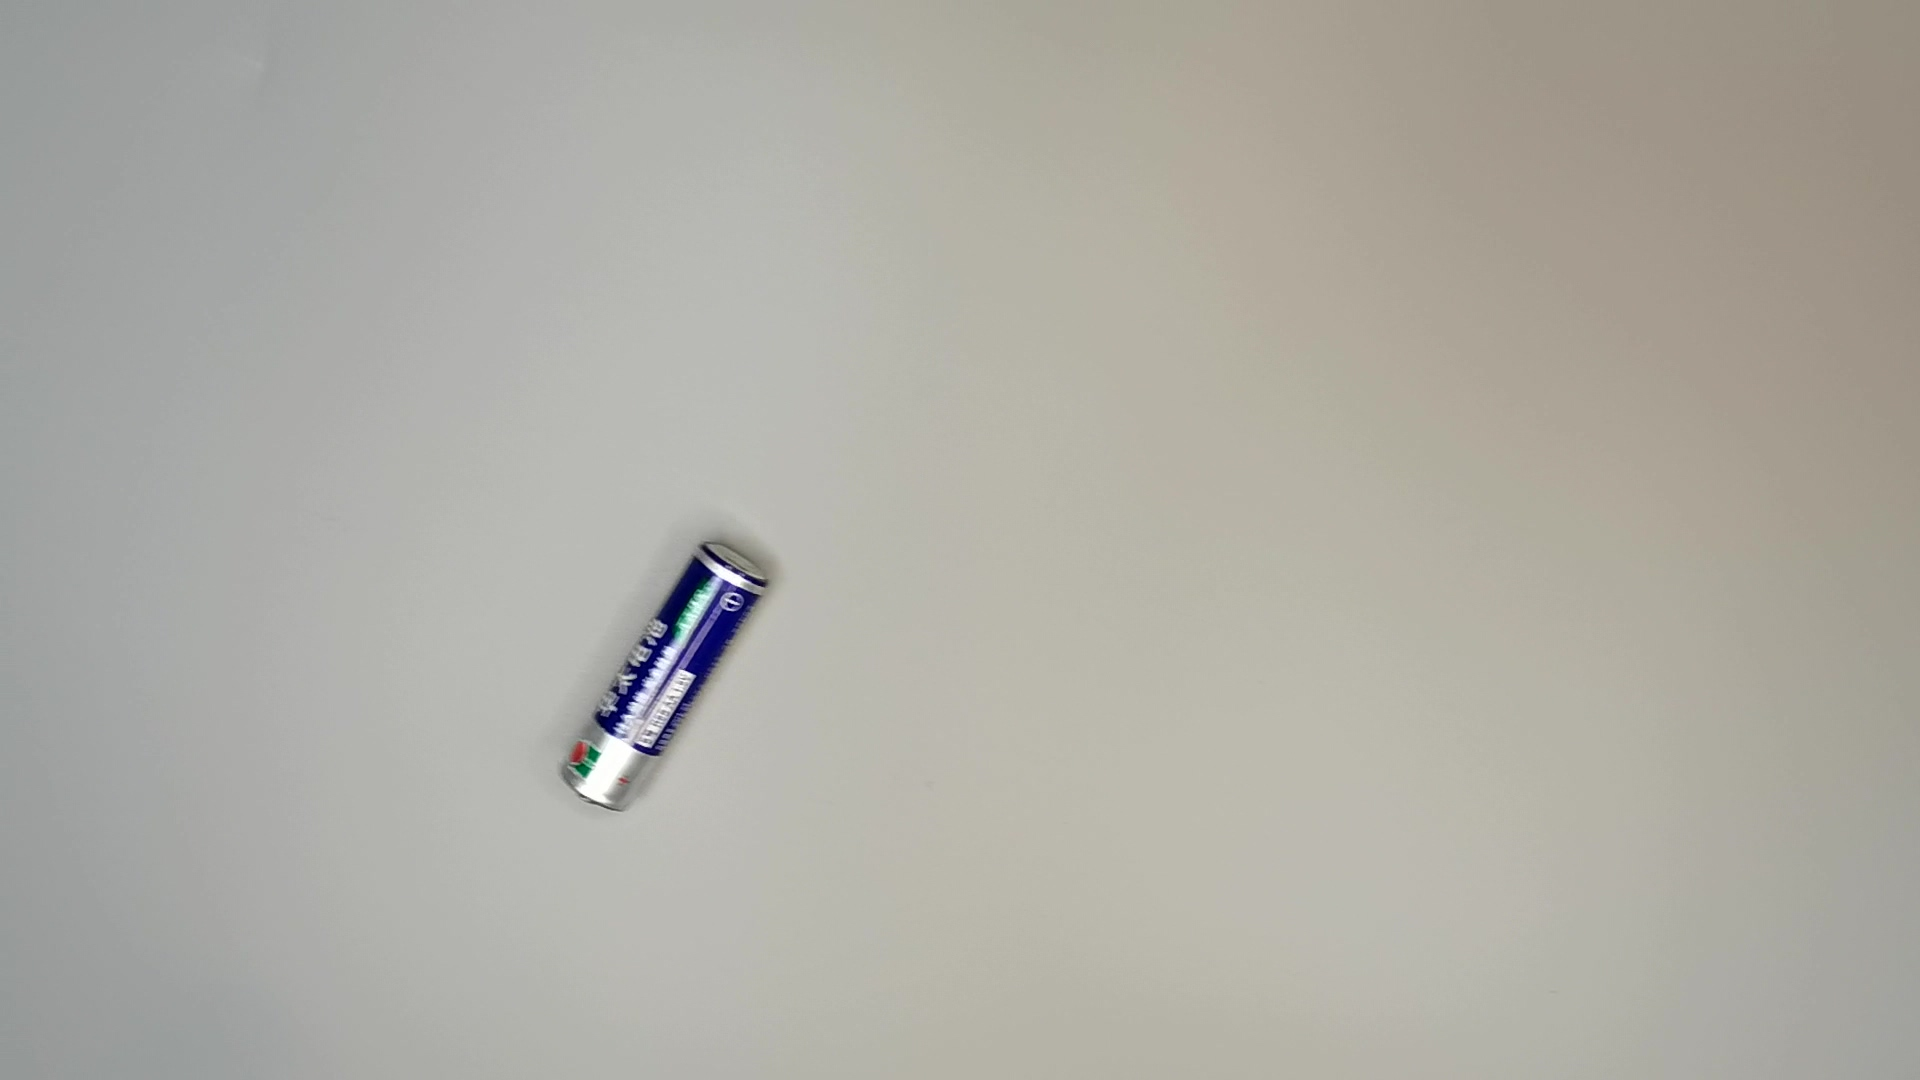battery: (556, 534, 785, 815)
